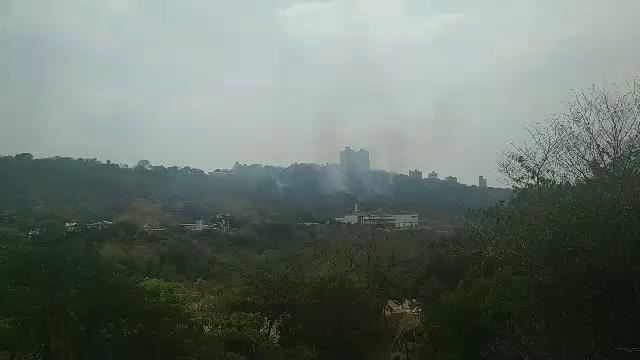smoke: (316, 146, 344, 196)
